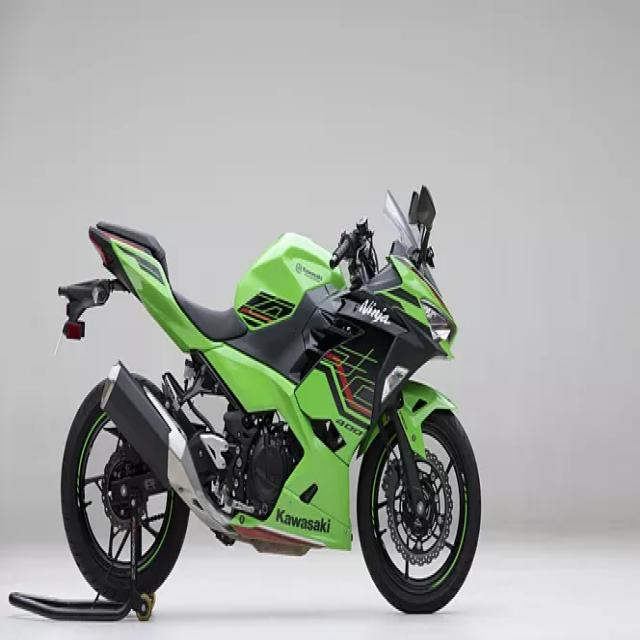Bike: (57, 187, 482, 618)
